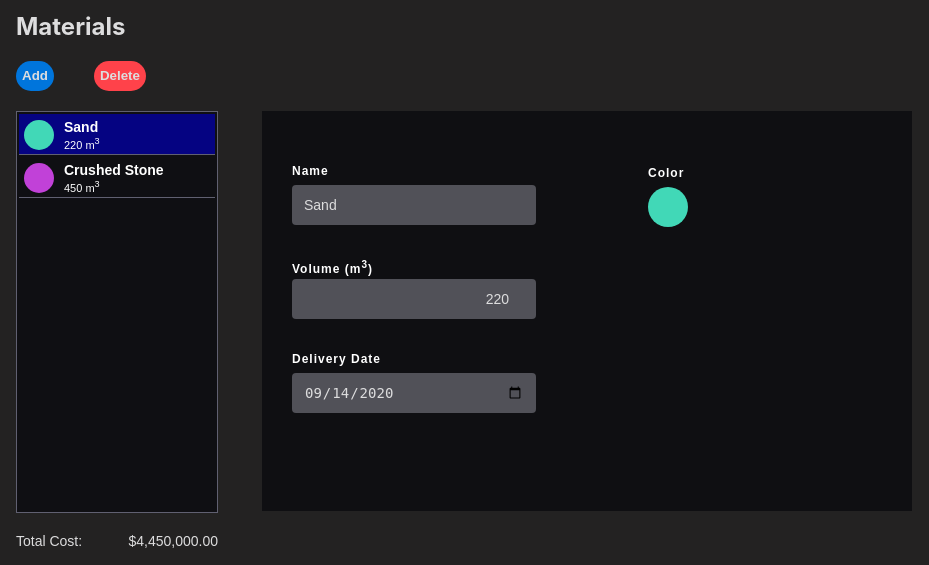
it: Cesium Material Form › After Loading › updates the table when the name field has changed
Replace the text in the field with test id "text-field-input" with "Unit Test" at (414, 205), box top-left (292, 185), bottom-right (536, 225)
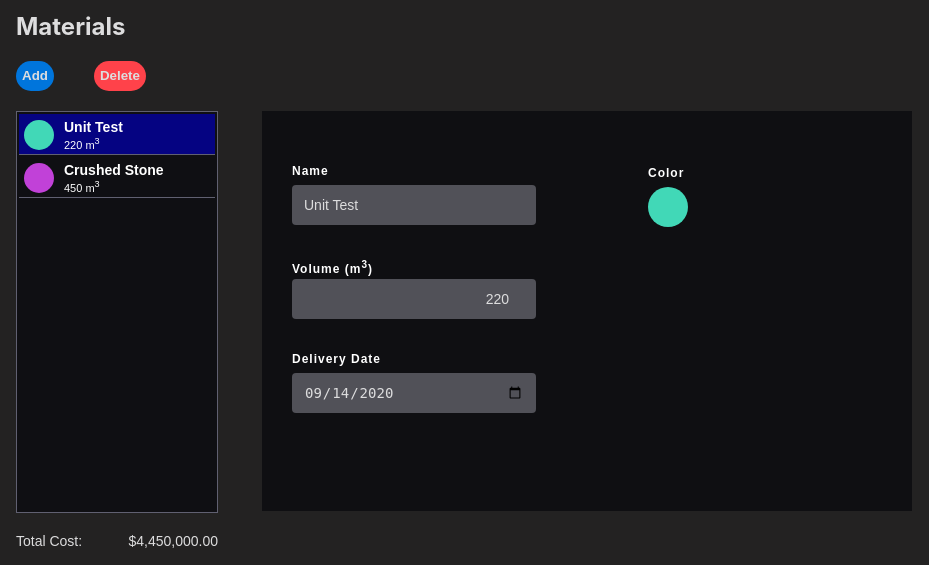
Expected: the row with test id "material-table-row-abba" shows "Unit Test", top-left (64, 120), bottom-right (123, 136)
